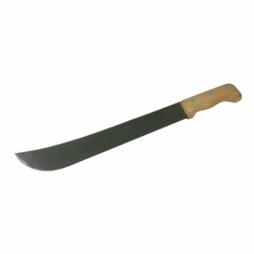MACHETTE: (2, 79, 254, 184)
